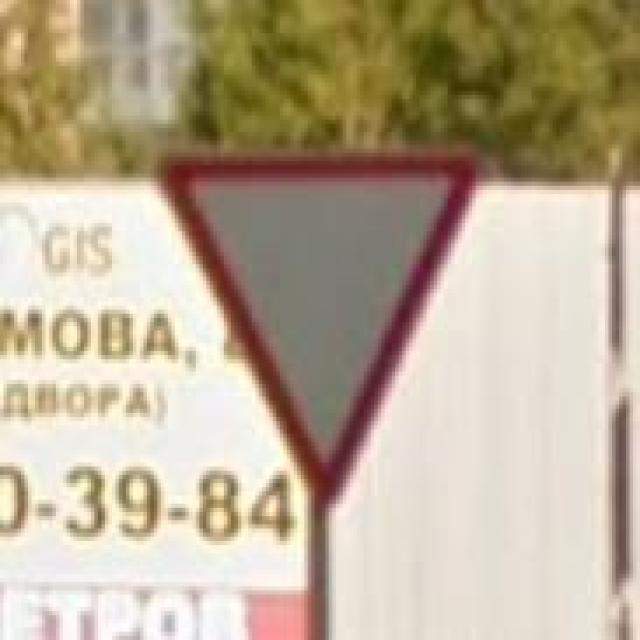give_way: (151, 148, 479, 500)
